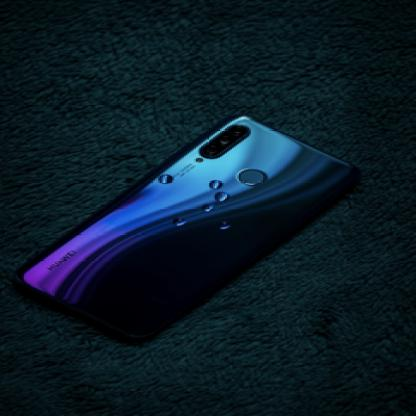cell-phone: (28, 104, 370, 350)
